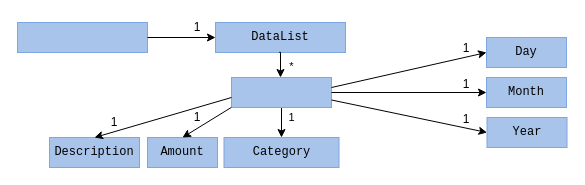
Some shapes in this 585 by 185 pixel diagram are drawn without their labels. Here are the shapes that lost their labels. From the top down, the centre of each, then its label:
At point 82,37: "FundBook".
At point 281,92: "Data".
